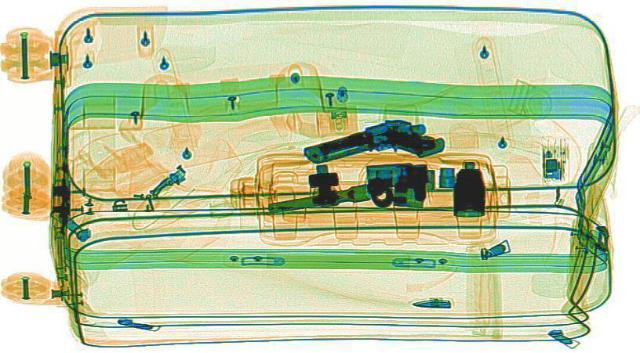Gun: (292, 110, 456, 181)
